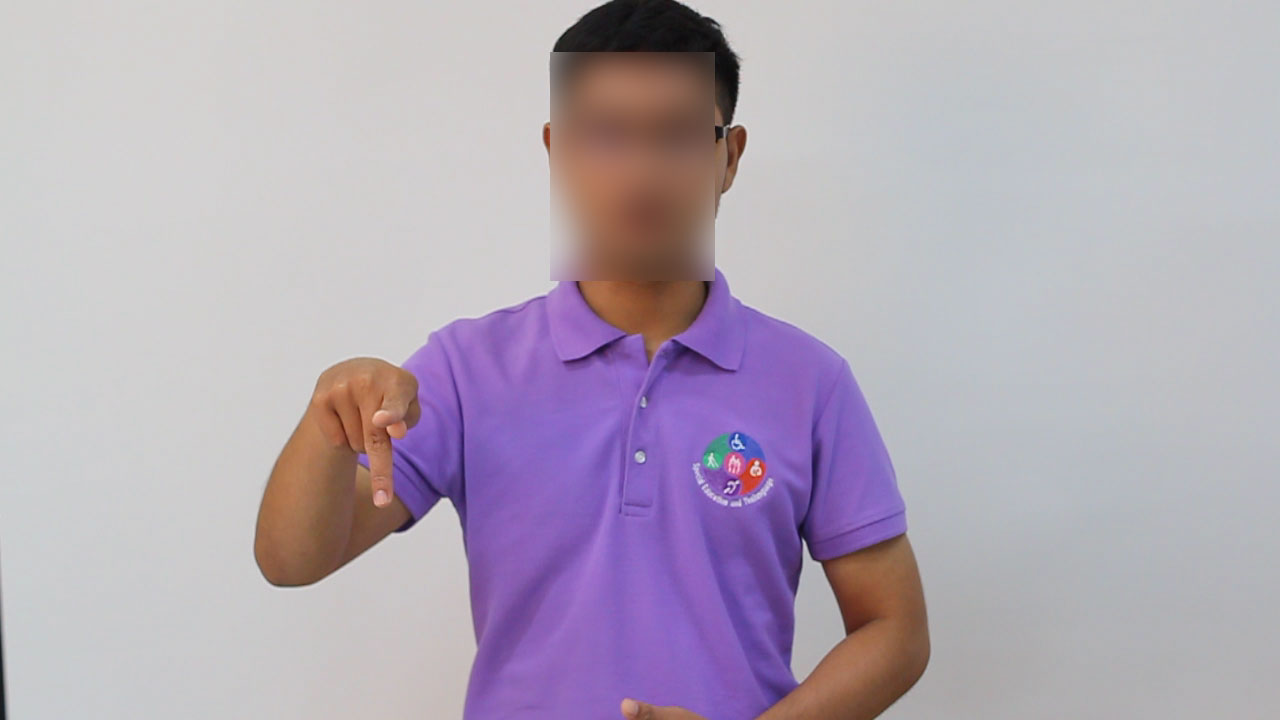por: (302, 343, 431, 519)
